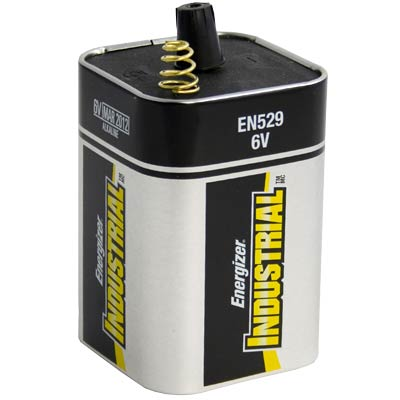6V: (72, 3, 327, 394)
